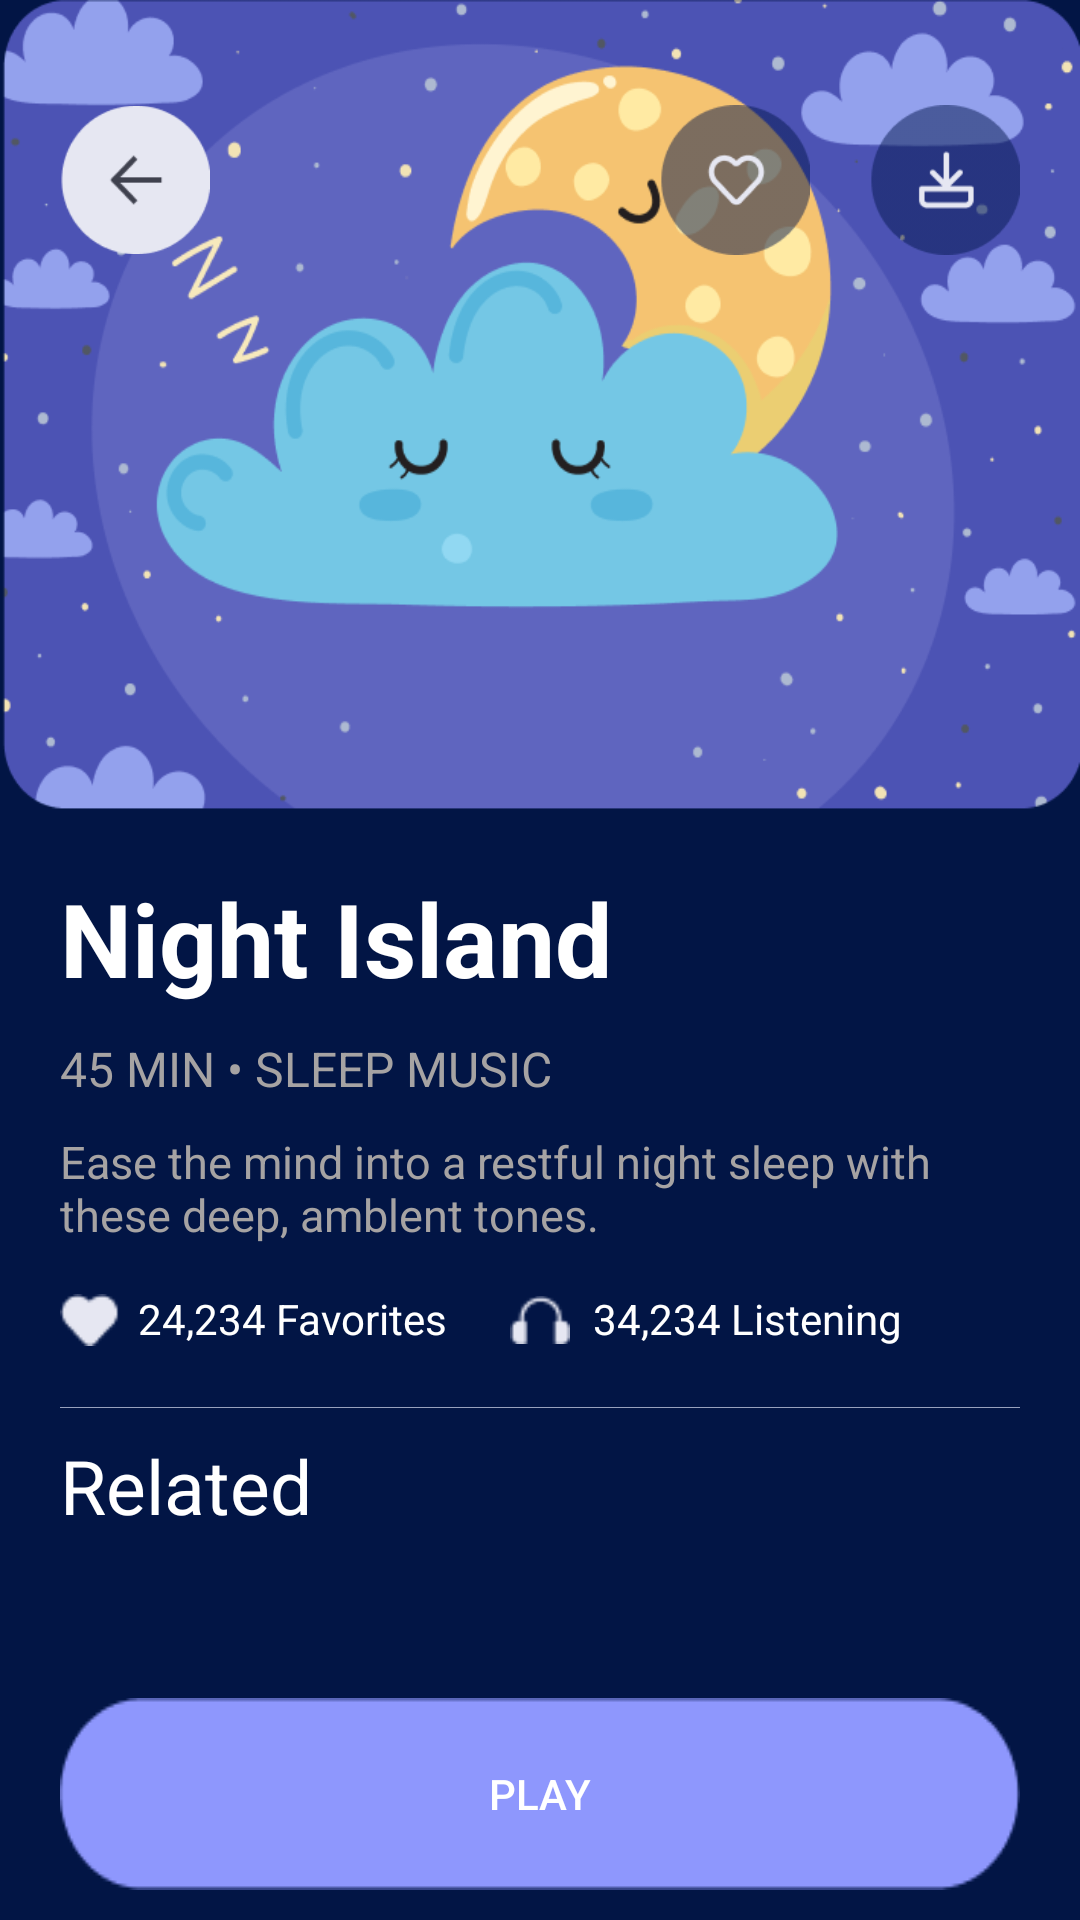

Locate icon controls on the screen. Image size 1080*1920, boxes as (x1, y1, x2, y2).
back: (61, 106, 210, 255)
download: (870, 105, 1020, 255)
ear: (510, 1296, 570, 1344)
